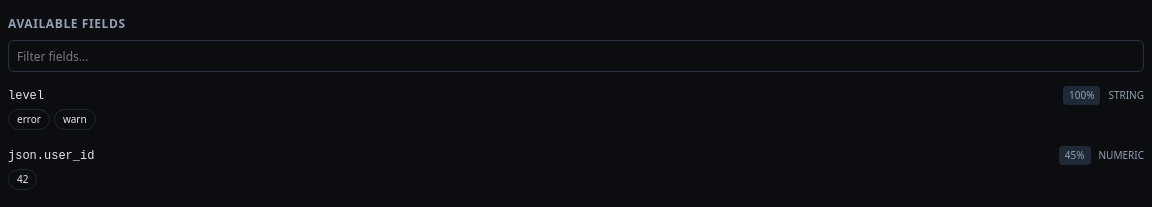
Test: FieldsDiscoveryPanel › name filter narrows the list
In the field with test id "fields-discovery-search": (576, 56) [8,40,1144,72], type "user"
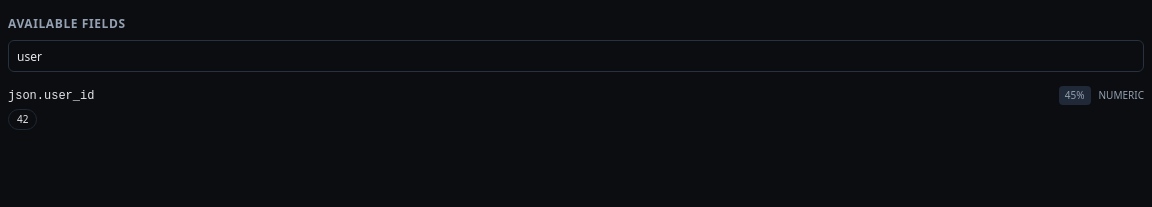
Check: the number of elements with test id "fields-discovery-row" is 1, box [0,80,1151,136]
